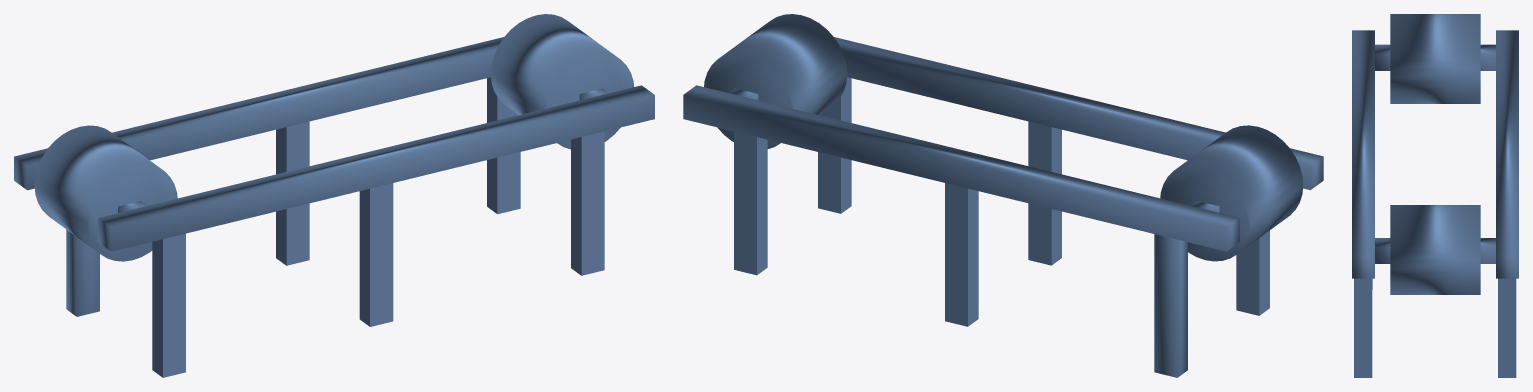
Rendered from Conveyor_frame.glb.
3 renders of one model, left to right at view 1: azimuth 30°, elevation 25°; view 2: azimuth 150°, elevation 25°; view 3: azimuth 270°, elevation 25°, orthographic. The views are drawn at different scales.
Visible parts, largest first — view 1: Cube.039; view 2: Cube.039; view 3: Cube.039.
Boxes of the visible parts, bbox=[...] form: Cube.039: bbox=[14, 14, 654, 377]; Cube.039: bbox=[683, 14, 1323, 377]; Cube.039: bbox=[1352, 14, 1518, 377].
Size of the model in its own units: 11.88 by 4.14 by 3.65.
1 material, 1 textured.
